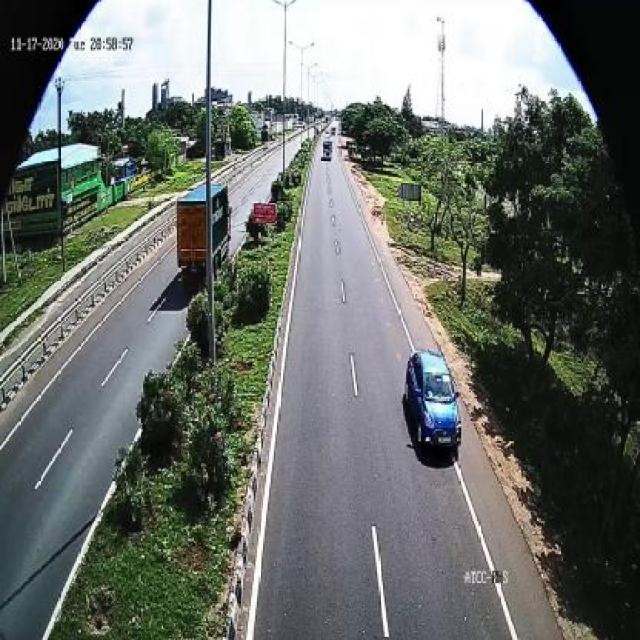car: (406, 346, 463, 460)
